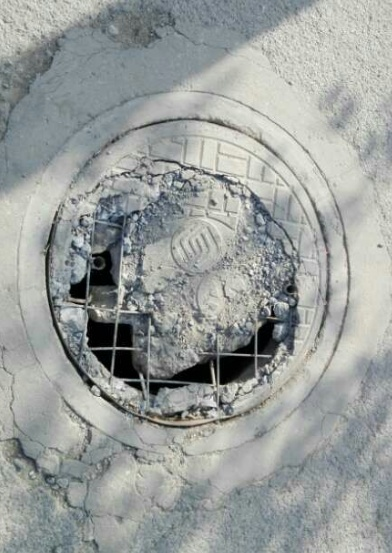broke: (18, 91, 349, 452)
